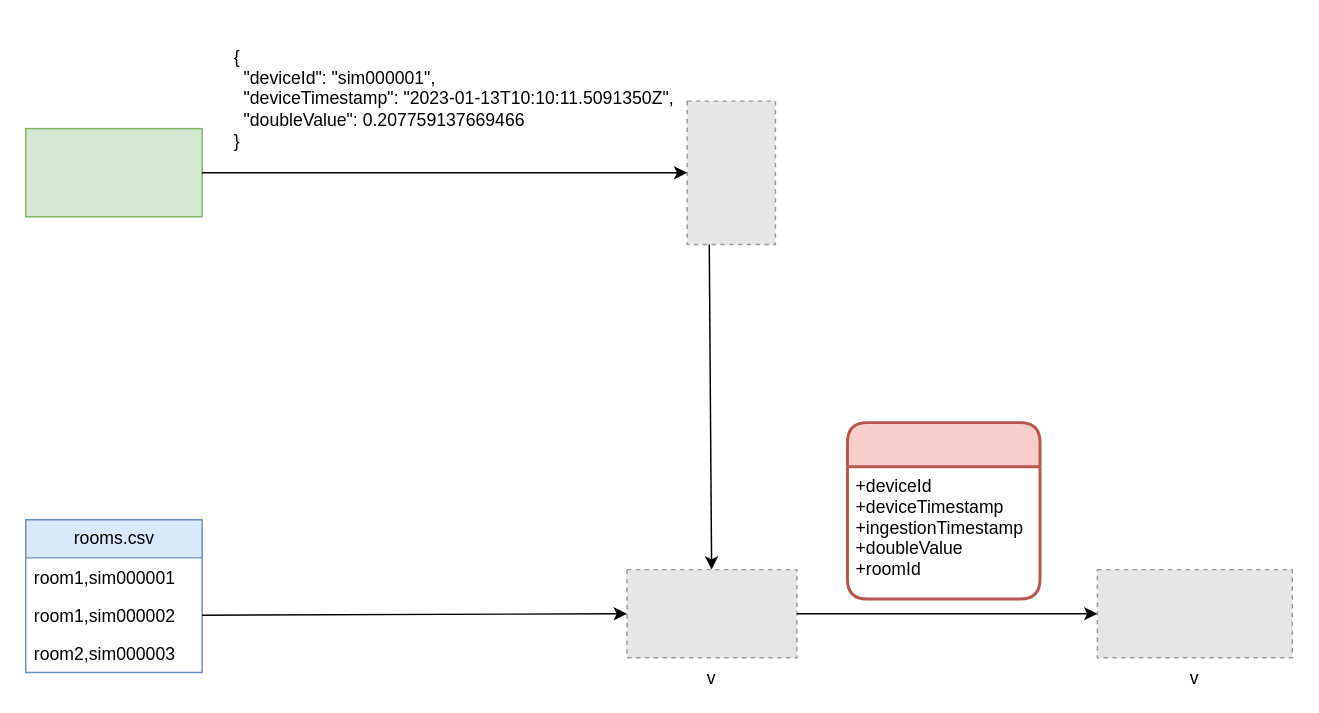
The diagram is 1319 pixels wide and 713 high, and some of its shapes have lost their labels. Grey dashed boxes stand in for pictures. Each missing label, with the box of its shape:
dbo.telemetry: (845, 420, 1041, 600)
IoT Telemetry Simulator: (24, 127, 202, 217)
